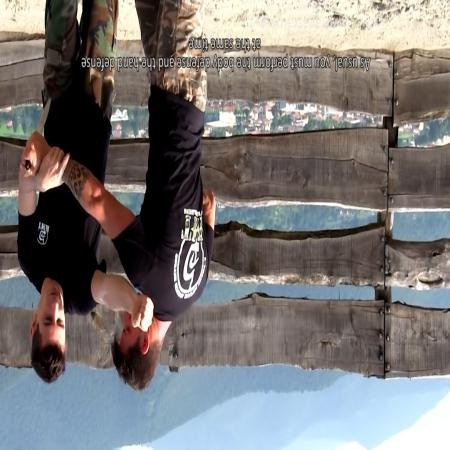long weapon: (19, 95, 54, 179)
